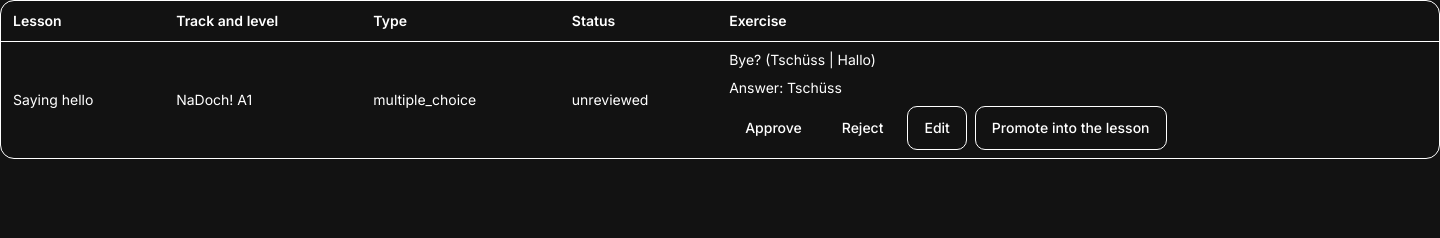
Scenario: PracticePoolList › promotes, and shows a server refusal
Click the button "Promote into the lesson" at (1071, 128), box [975, 106, 1166, 150]
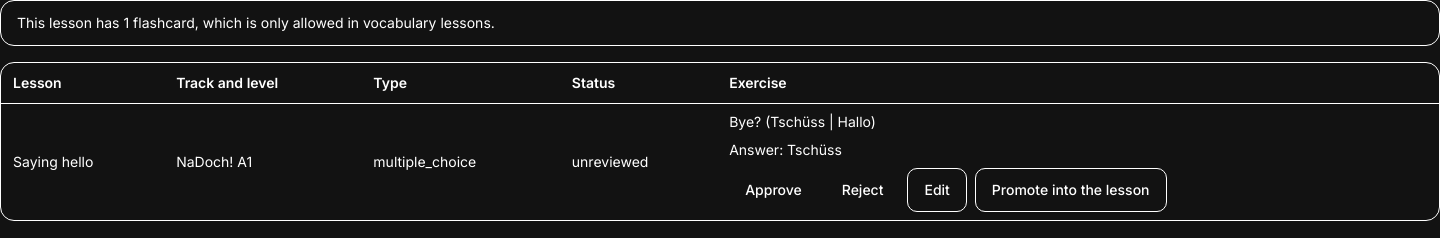
Result: the message shows "This lesson has 1 flashcard" at [17, 14, 495, 31]
